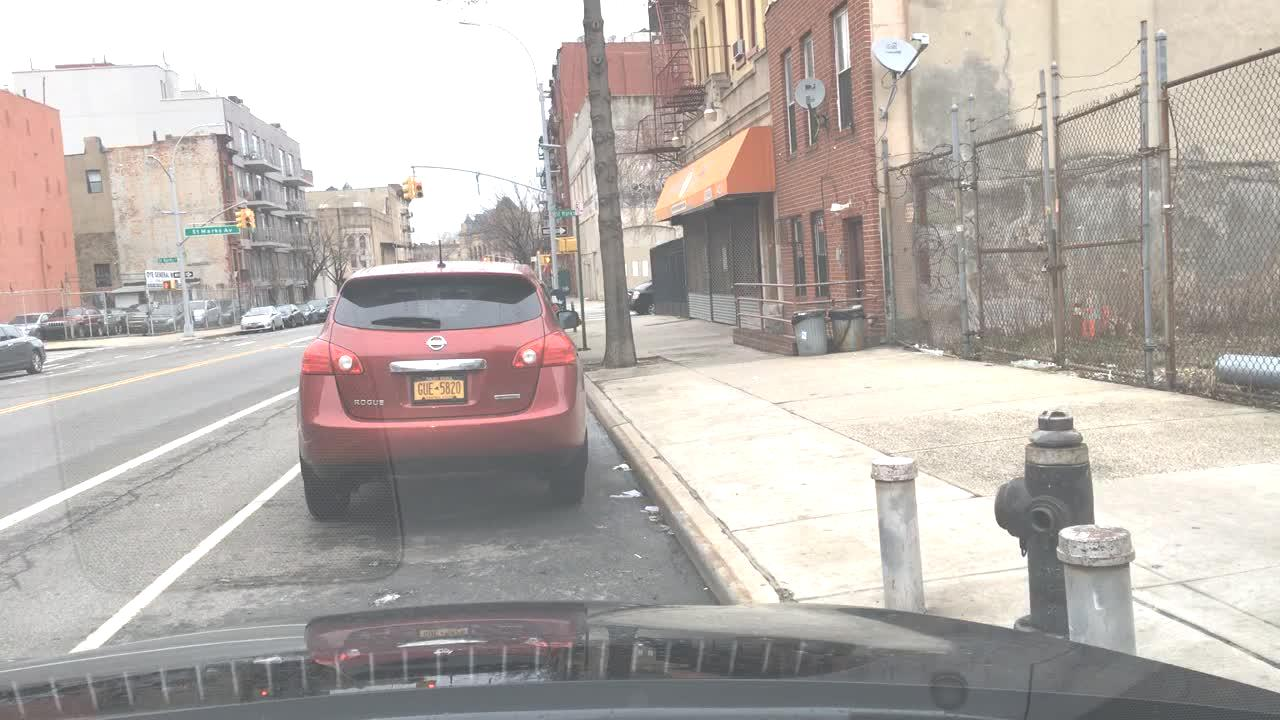Nissan: (422, 333, 450, 354)
